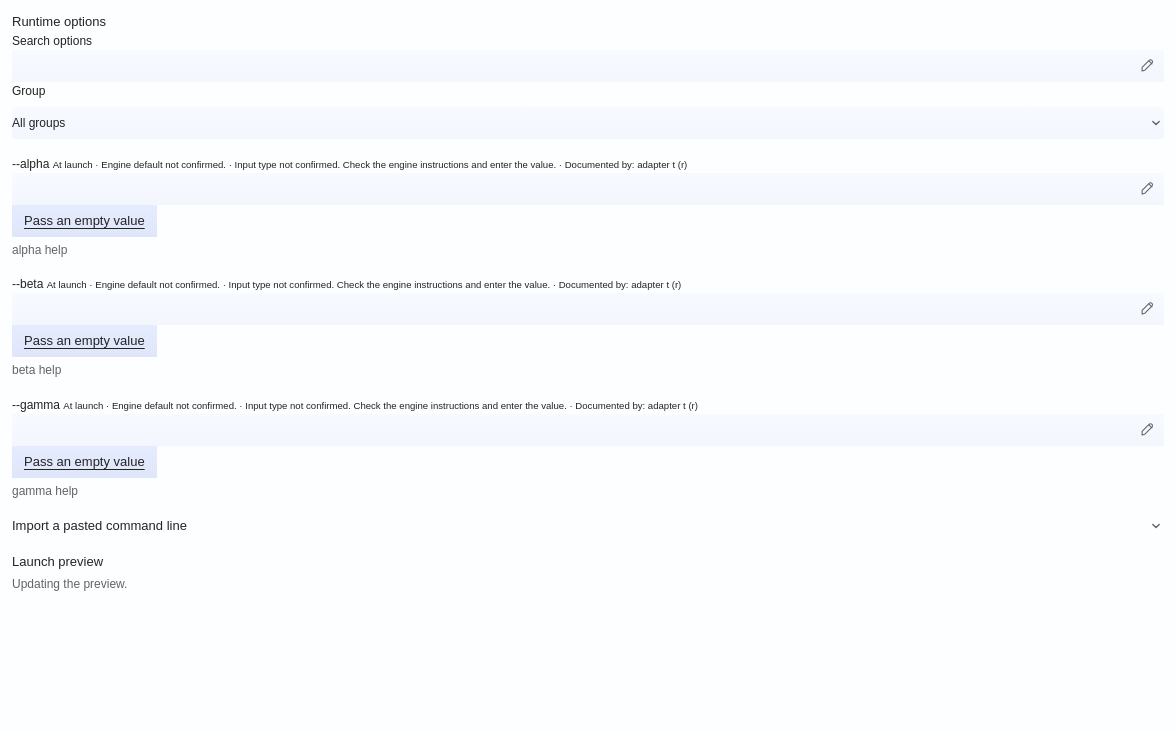
Test case: generic runtime option renderer › filters a large option list through search without engine branches
This screenshot has width=1176, height=732.
Type "beta" into the search field labelled "Search options".
click(588, 66); type("beta")  # box [12, 50, 1164, 82]
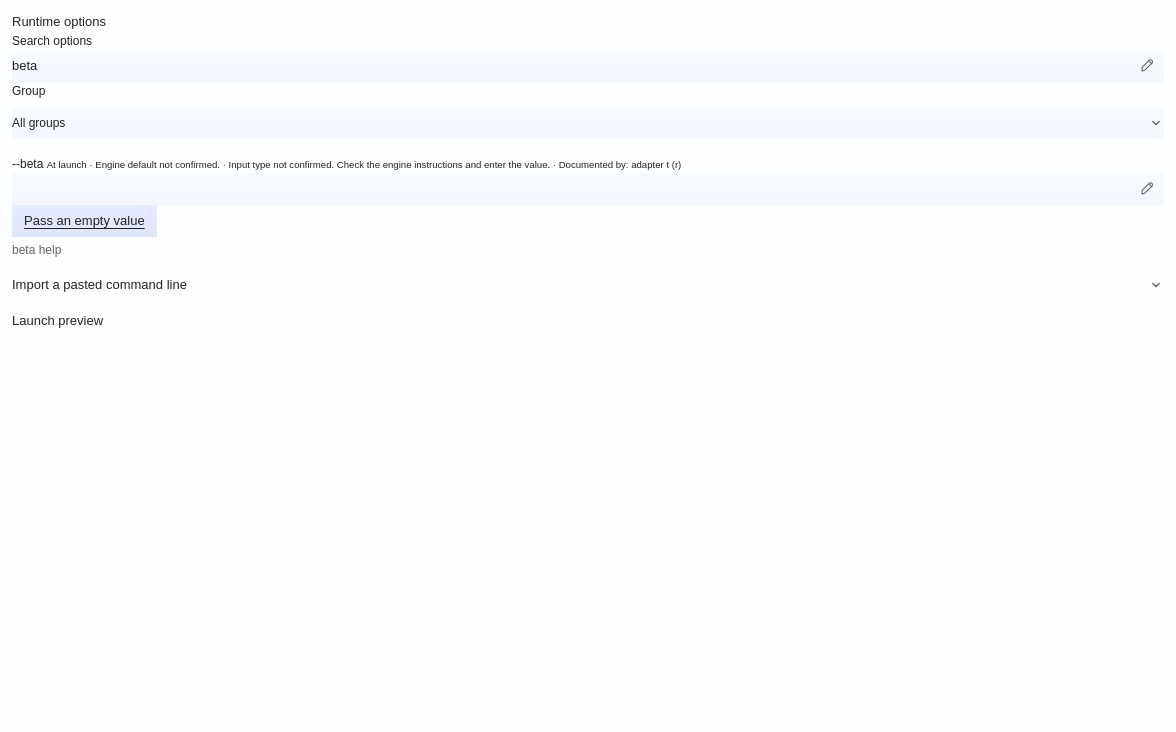
Expected: the text "--beta" is shown, [12, 156, 43, 170]
Now the text "--alpha" is gone
